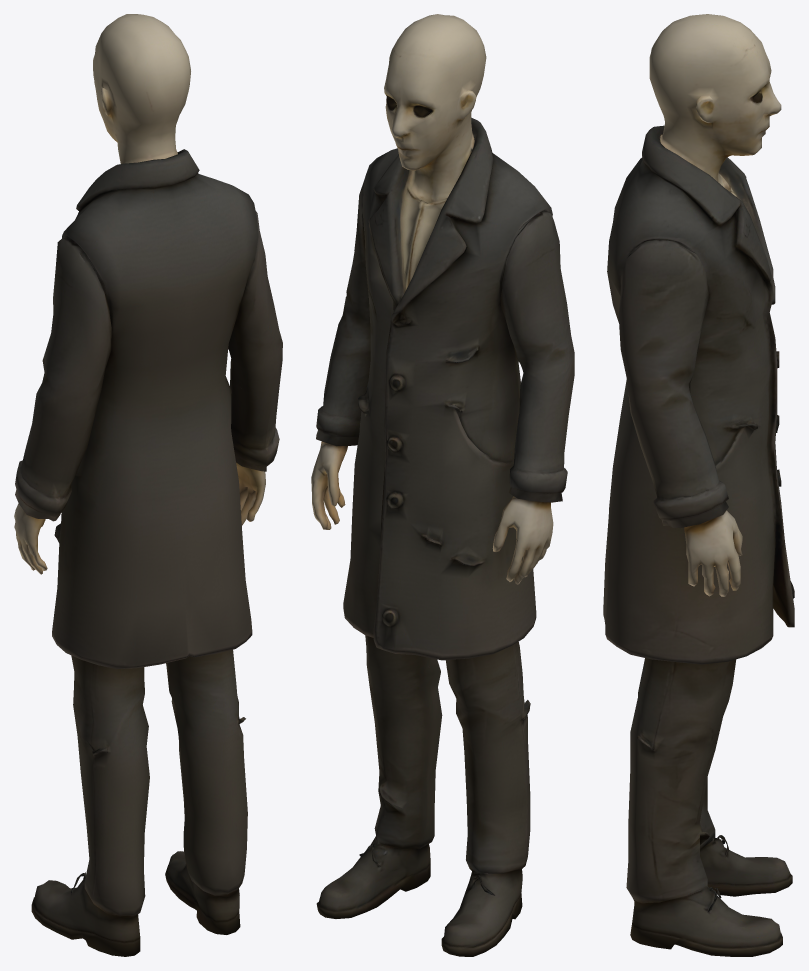
Rendered from watcher-effigy.glb.
3 views of the same model, side by side, from view 1: azimuth 30°, elevation 25°; view 2: azimuth 150°, elevation 25°; view 3: azimuth 270°, elevation 25° (orthographic).
Visible parts, largest first — view 1: tripo_node_2b8bdcd1-2bf0-4dcc-85a8-c7c72b20bb39; view 2: tripo_node_2b8bdcd1-2bf0-4dcc-85a8-c7c72b20bb39; view 3: tripo_node_2b8bdcd1-2bf0-4dcc-85a8-c7c72b20bb39.
Boxes of the visible parts, x1=… form: tripo_node_2b8bdcd1-2bf0-4dcc-85a8-c7c72b20bb39: x1=14, y1=14, x2=282, y2=956; tripo_node_2b8bdcd1-2bf0-4dcc-85a8-c7c72b20bb39: x1=311, y1=14, x2=574, y2=956; tripo_node_2b8bdcd1-2bf0-4dcc-85a8-c7c72b20bb39: x1=603, y1=14, x2=794, y2=956.
Bounding box in the file's own units: 0.48 × 1.68 × 0.3255.
1 material, 1 textured.
